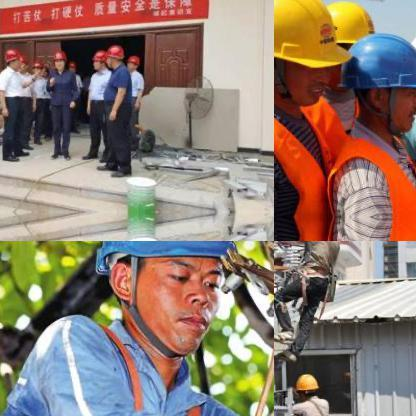Helmet: (91, 241, 240, 357), (274, 0, 350, 111), (346, 23, 415, 128), (314, 0, 380, 92), (292, 370, 320, 399), (2, 46, 24, 70), (103, 43, 122, 67), (50, 51, 68, 72), (123, 52, 141, 72), (91, 48, 105, 70), (30, 56, 42, 74), (16, 52, 28, 70)
